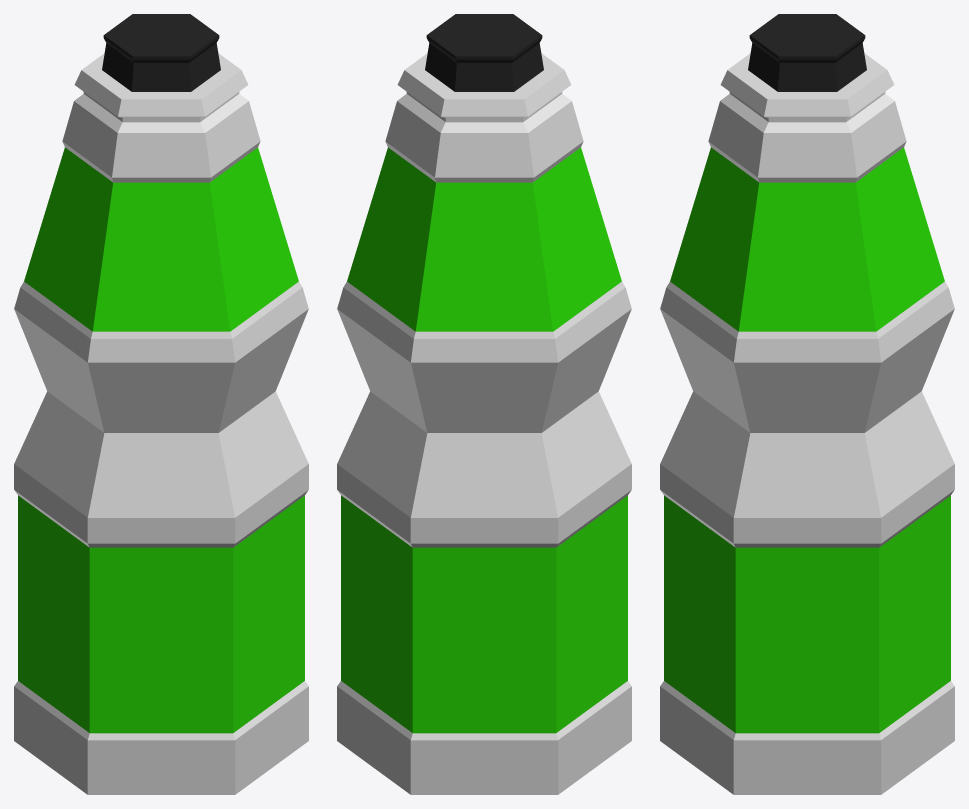
Rendered from bottle_1.fbx.
The picture shows the model from 3 angles, left to right: view 1: azimuth 30°, elevation 25°; view 2: azimuth 150°, elevation 25°; view 3: azimuth 270°, elevation 25°; orthographic projection.
Parts seen in each view (by area): view 1: bottle_1; view 2: bottle_1; view 3: bottle_1.
Boxes of the visible parts, bbox=[...] form: bottle_1: bbox=[14, 14, 308, 794]; bottle_1: bbox=[337, 14, 631, 794]; bottle_1: bbox=[660, 14, 954, 794].
Size of the model in its own units: 17.47 by 53.31 by 20.17.
